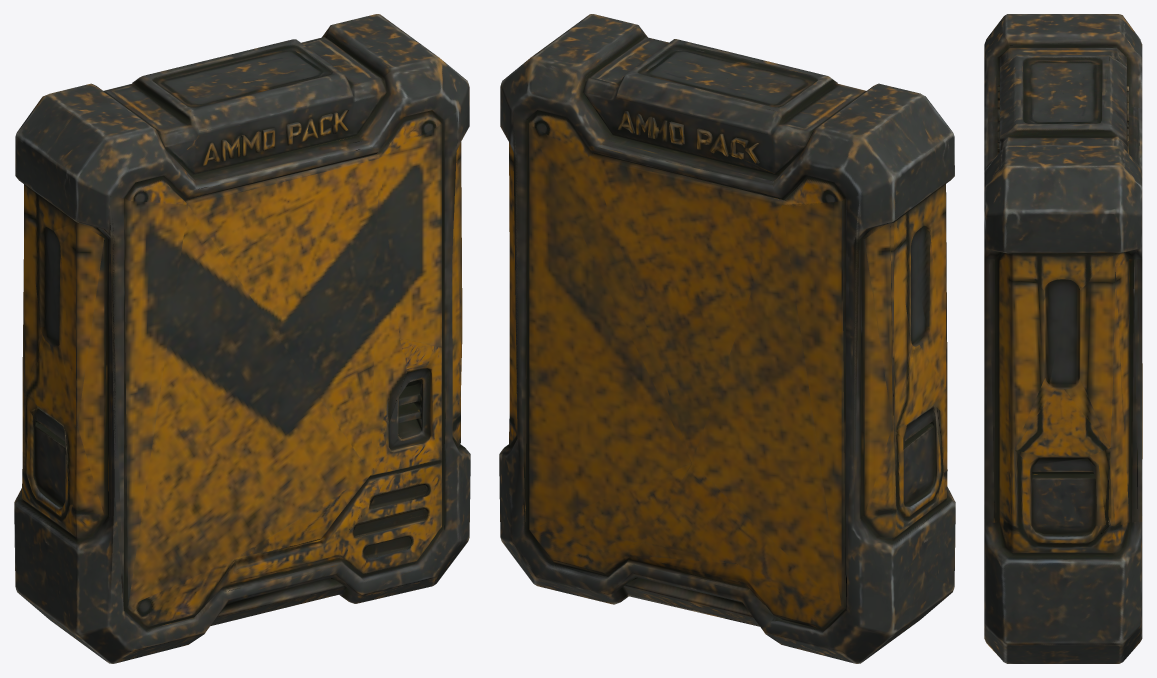
Rendered from ammo_pack.glb.
The picture shows the model from 3 angles, left to right: view 1: azimuth 30°, elevation 25°; view 2: azimuth 150°, elevation 25°; view 3: azimuth 270°, elevation 25°; orthographic projection. The views are drawn at different scales.
Visible parts, largest first — view 1: geometry_0; view 2: geometry_0; view 3: geometry_0.
Part boxes in pixels (box(x1,y1,x2,y2)): geometry_0: box(14, 14, 470, 663); geometry_0: box(499, 14, 955, 663); geometry_0: box(984, 14, 1142, 663).
Bounding box in the file's own units: 0.7417 × 0.9512 × 0.2725.
1 material, 1 textured.
